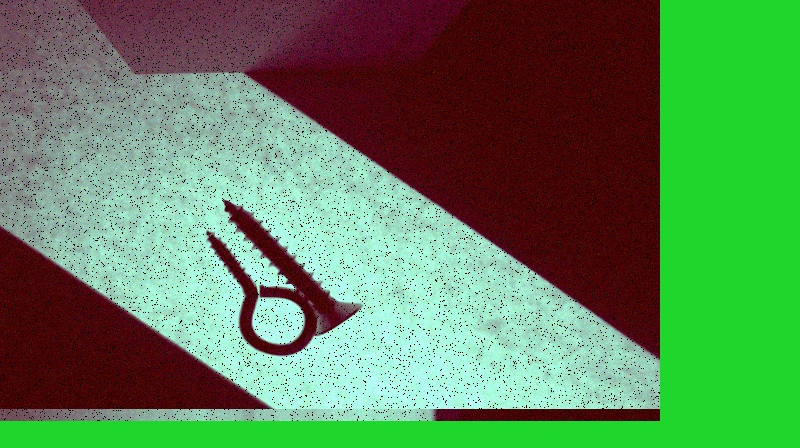O001: (202, 231, 320, 356)
S001: (219, 198, 363, 336)
